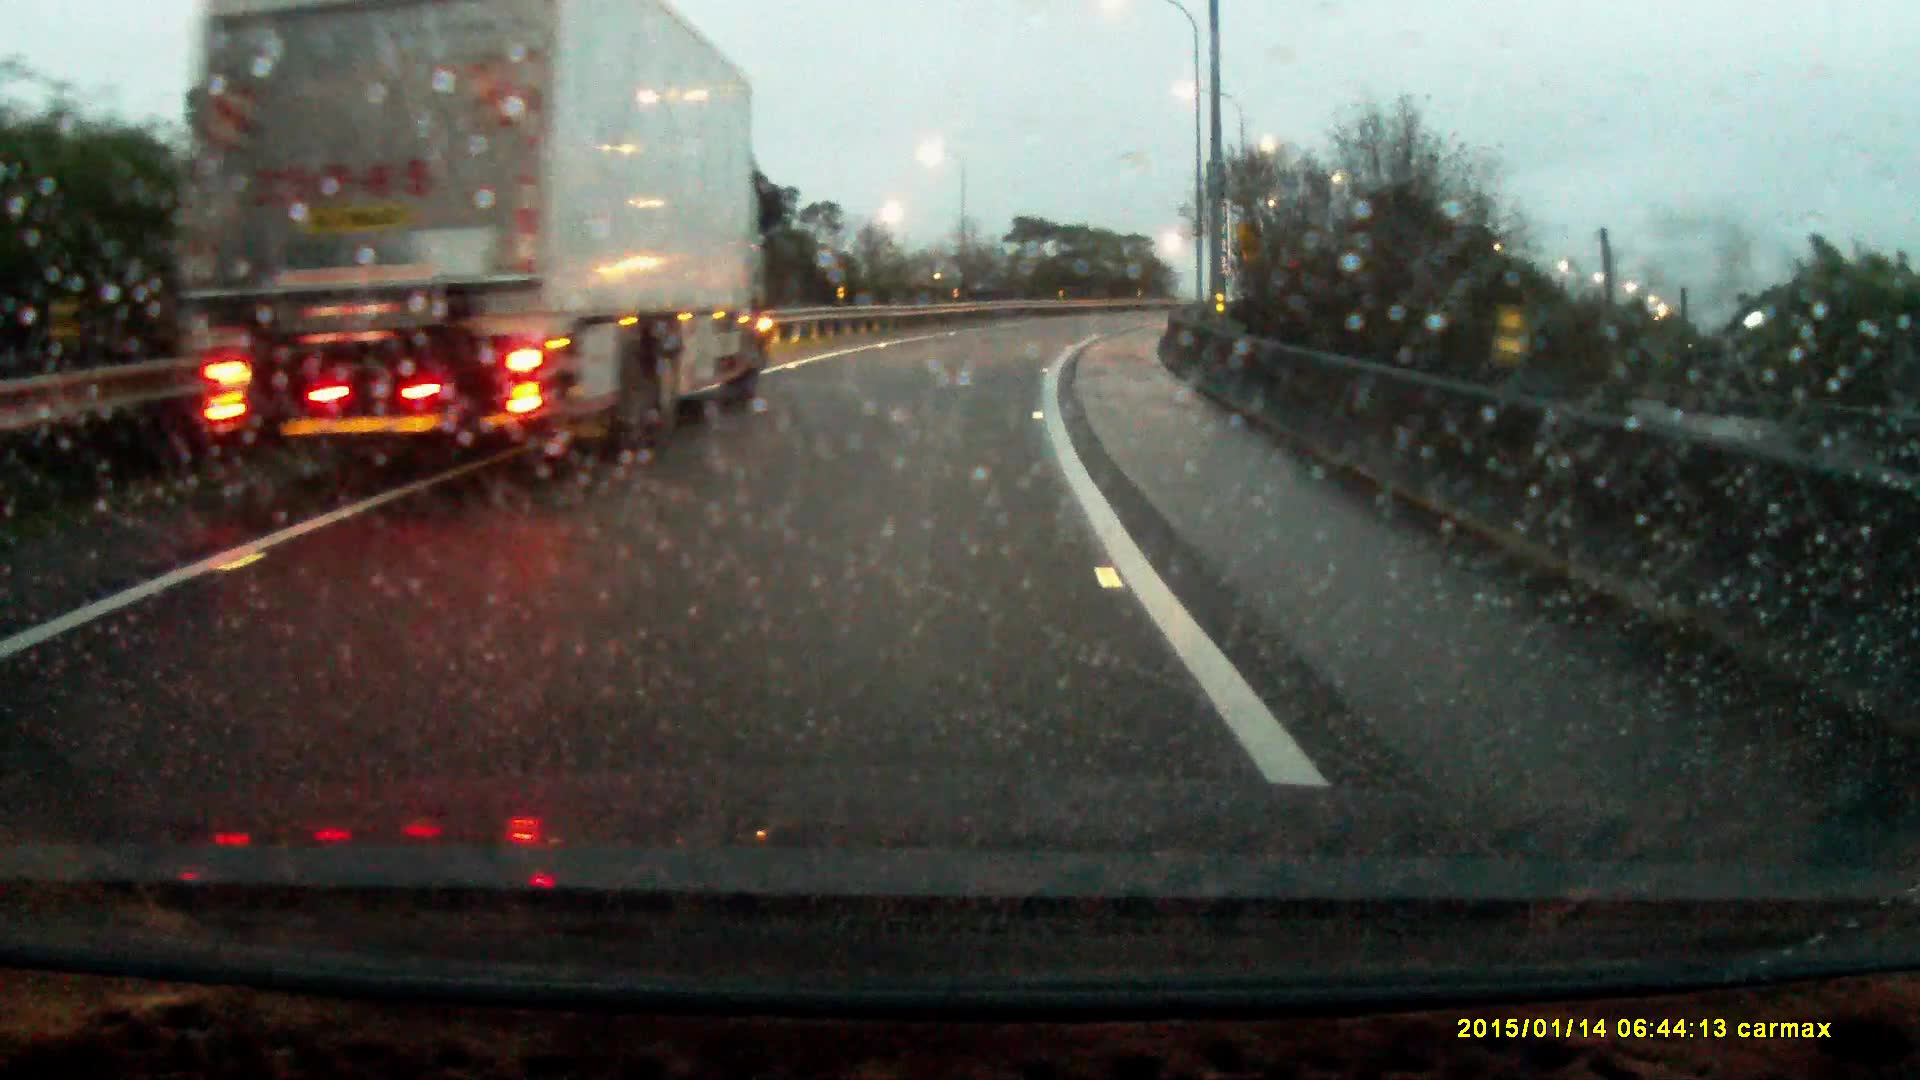vehicle: (137, 1, 781, 487)
